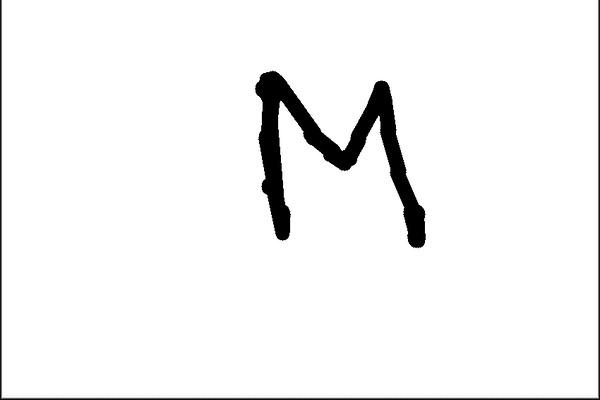M: (254, 65, 428, 249)
